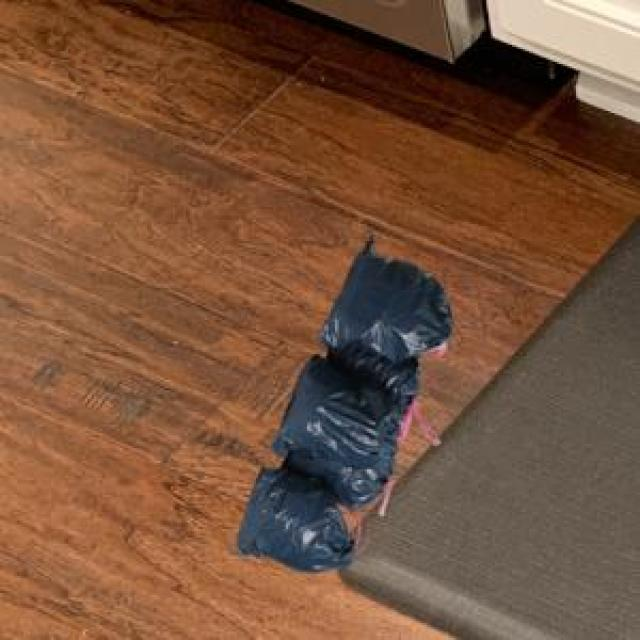waste: (240, 240, 452, 568)
